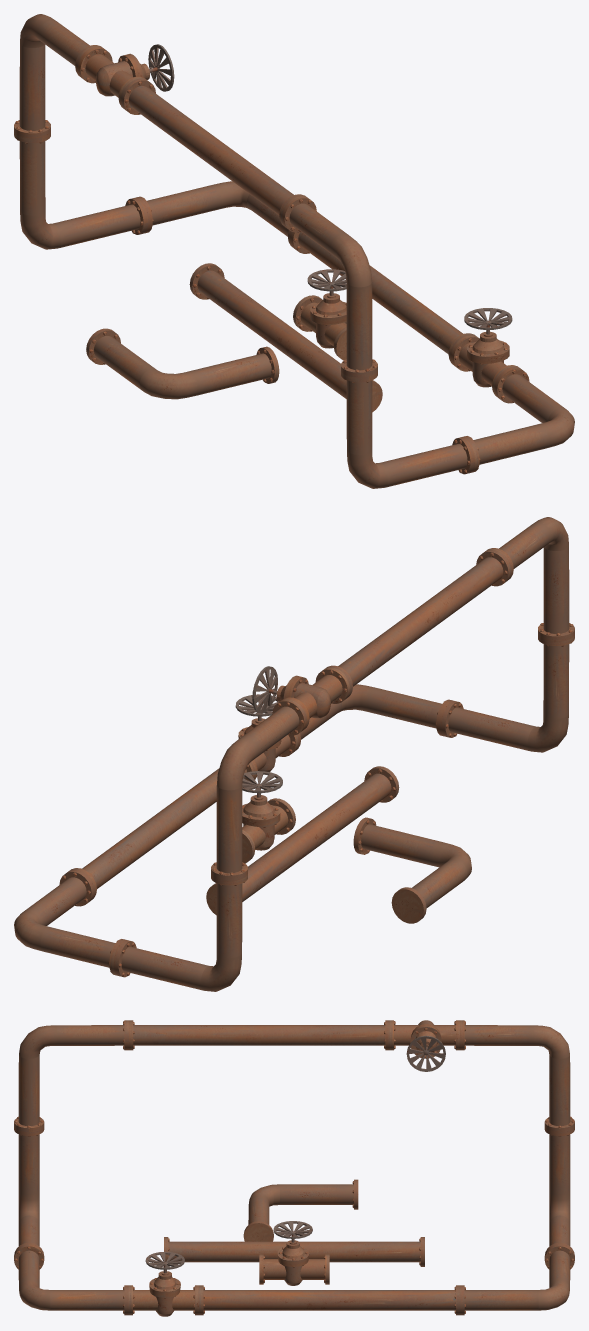
Rendered from Tubulacaon.glb.
The picture shows the model from 3 angles, top to bottom: view 1: azimuth 30°, elevation 25°; view 2: azimuth 150°, elevation 25°; view 3: azimuth 270°, elevation 25°; orthographic projection. The views are drawn at different scales.
Parts seen in each view (by area): view 1: polySurface219.438, polySurface79.319, polySurface129.412, polySurface202.417; view 2: polySurface219.438, polySurface79.319, polySurface129.412, polySurface202.417; view 3: polySurface219.438, polySurface129.412, polySurface79.319, polySurface202.417.
Part boxes in pixels (left/top/right/bottom): polySurface219.438: left=14, top=14, right=574, bottom=488; polySurface79.319: left=86, top=328, right=279, bottom=399; polySurface129.412: left=189, top=263, right=382, bottom=412; polySurface202.417: left=293, top=269, right=346, bottom=360; polySurface219.438: left=14, top=517, right=574, bottom=991; polySurface79.319: left=353, top=817, right=471, bottom=923; polySurface129.412: left=206, top=766, right=399, bottom=915; polySurface202.417: left=242, top=771, right=295, bottom=863; polySurface219.438: left=14, top=1020, right=574, bottom=1316; polySurface129.412: left=164, top=1237, right=424, bottom=1266; polySurface79.319: left=243, top=1179, right=358, bottom=1241; polySurface202.417: left=259, top=1221, right=329, bottom=1285.
Bounding box in the file's own units: 54.61 × 44.97 × 107.
Materials: 4 (4 with a texture image).
